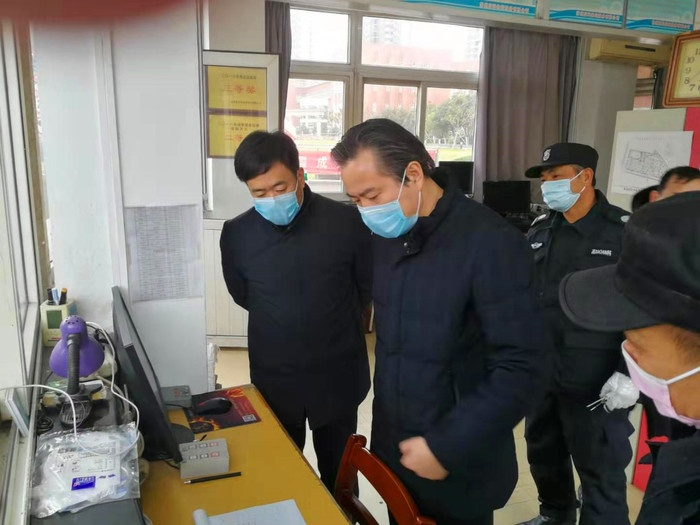correctlyWear: (618, 301, 700, 430), (337, 159, 423, 239), (246, 161, 305, 225), (538, 163, 594, 211)
